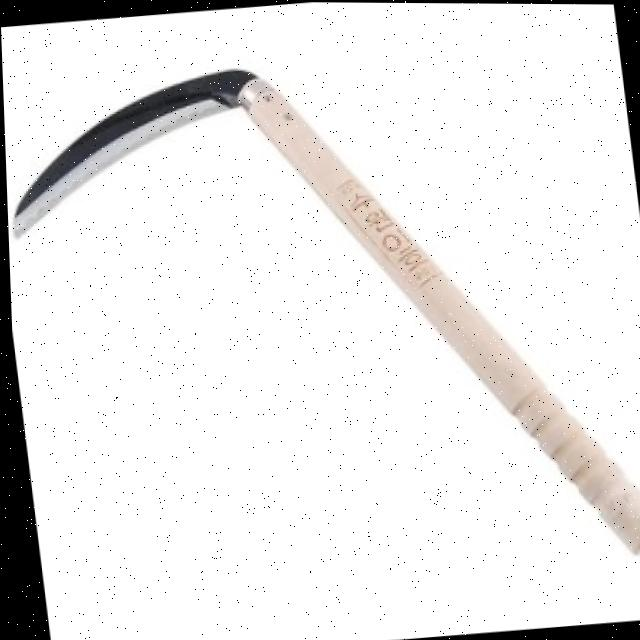sickle: (0, 4, 640, 631)
